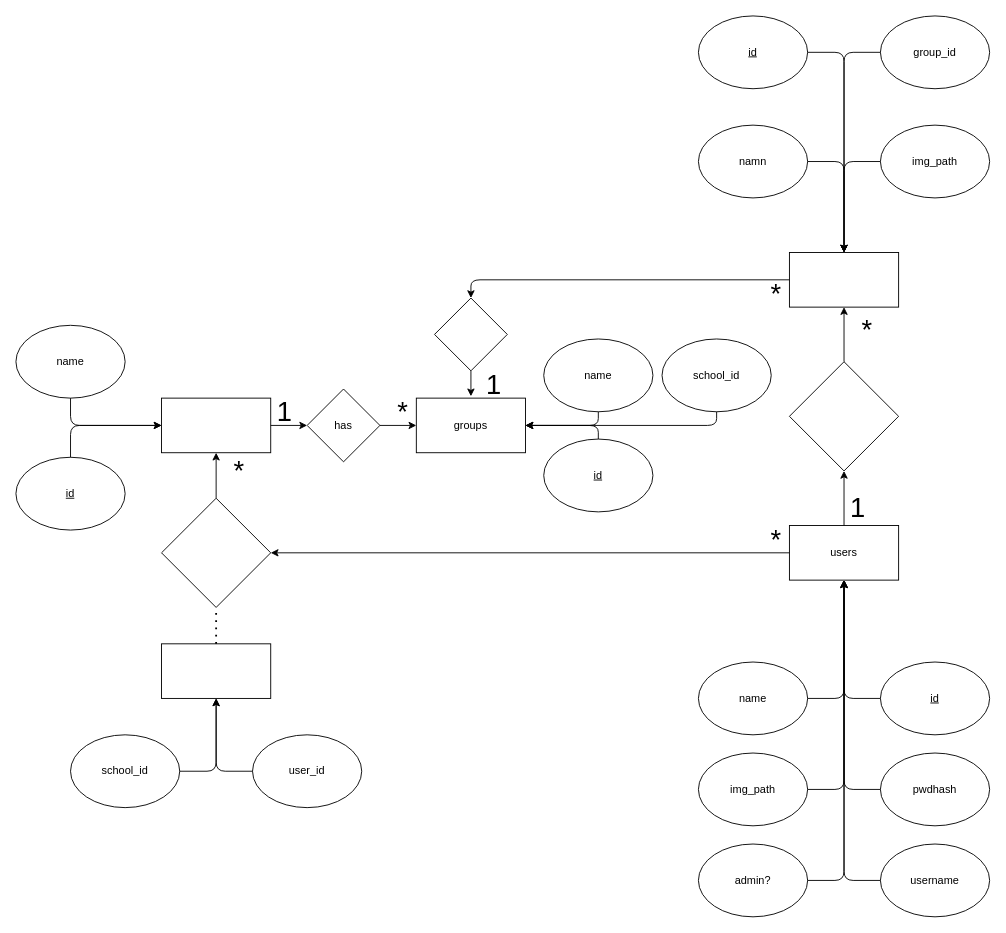
The diagram is 1006 pixels wide and 933 high, and some of its shapes have lost their labels. Here are the shapes that lost their labels. From the top down, the centre of each, then its label:
At (x=844, y=279): "students".
At (x=470, y=334): "belongs to".
At (x=216, y=425): "school".
At (x=844, y=416): "create/remove".
At (x=216, y=552): "works at".
At (x=216, y=670): "user/school".
